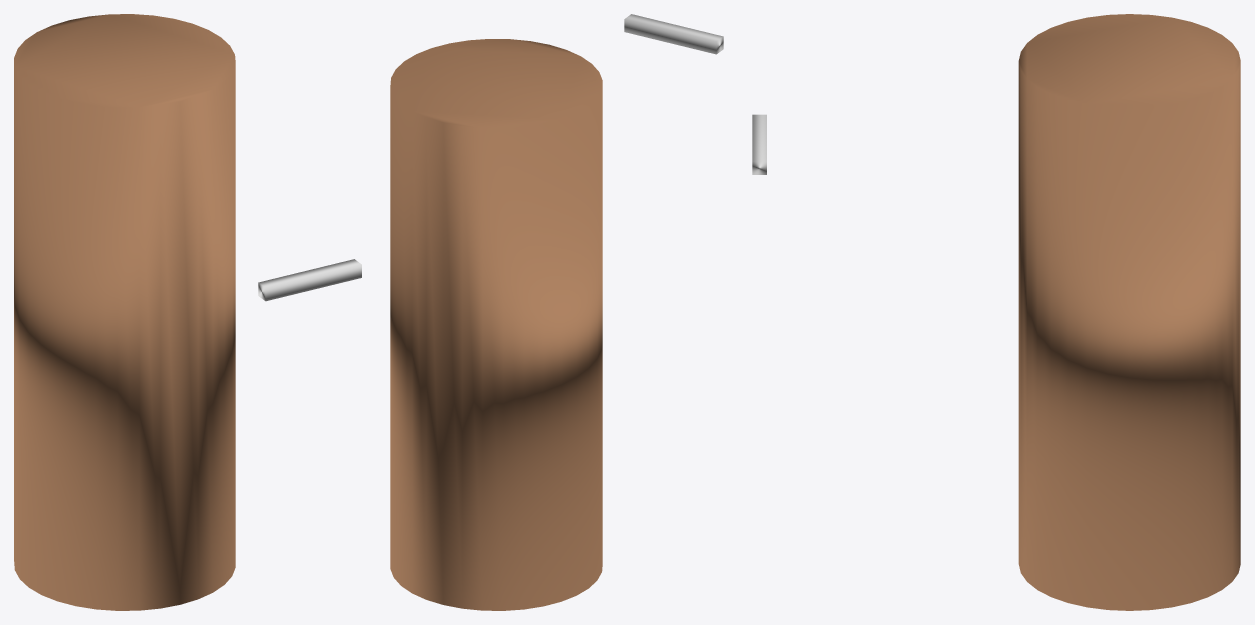
File: knife.glb
3 renders of one model, left to right at view 1: azimuth 30°, elevation 25°; view 2: azimuth 150°, elevation 25°; view 3: azimuth 270°, elevation 25°, orthographic. The views are drawn at different scales.
Parts seen in each view (by area): view 1: Cube; view 2: Cube; view 3: Cube.
Boxes of the visible parts, x1=… form: Cube: x1=14, y1=14, x2=361, y2=610; Cube: x1=390, y1=14, x2=723, y2=610; Cube: x1=752, y1=14, x2=1240, y2=610.
Size of the model in its own units: 0.024 by 0.06 by 0.0528.
